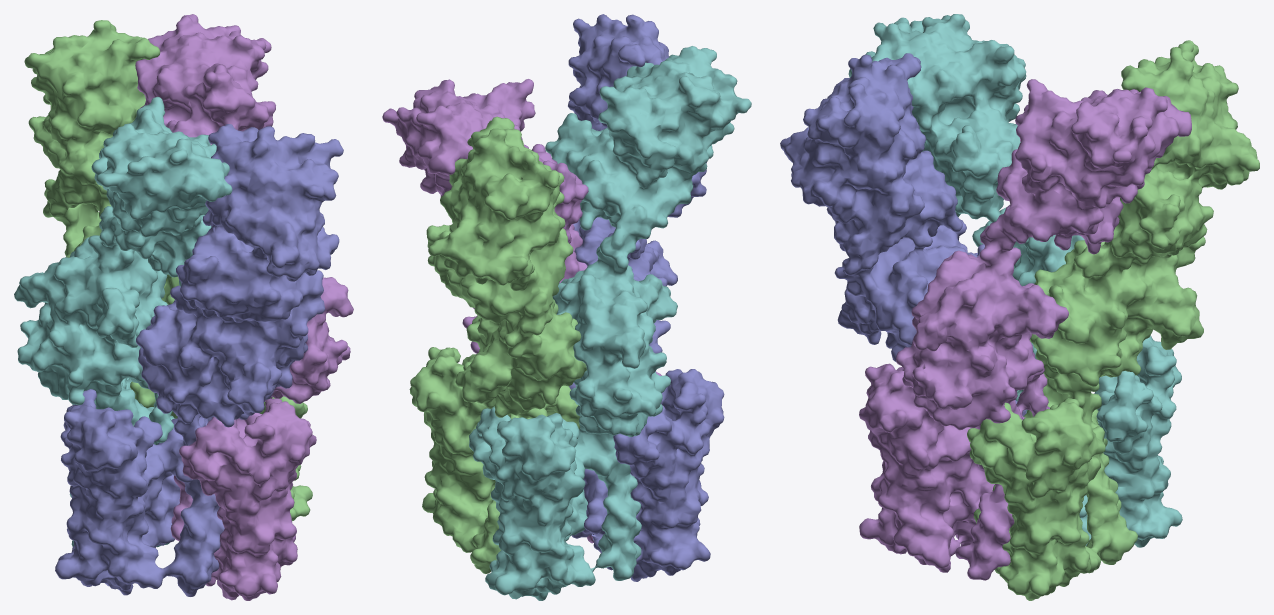
File: glua2-5weo.glb
3 views of the same model, side by side, from view 1: azimuth 30°, elevation 25°; view 2: azimuth 150°, elevation 25°; view 3: azimuth 270°, elevation 25° (orthographic). The views are drawn at different scales.
Parts seen in each view (by area): view 1: glua2-5weo_mesh; view 2: glua2-5weo_mesh; view 3: glua2-5weo_mesh.
Part boxes in pixels (<box>): glua2-5weo_mesh: <box>14,14,353,600</box>; glua2-5weo_mesh: <box>382,14,751,600</box>; glua2-5weo_mesh: <box>780,14,1259,600</box>.
Size of the model in its own units: 1.08 by 1.91 by 1.61.
